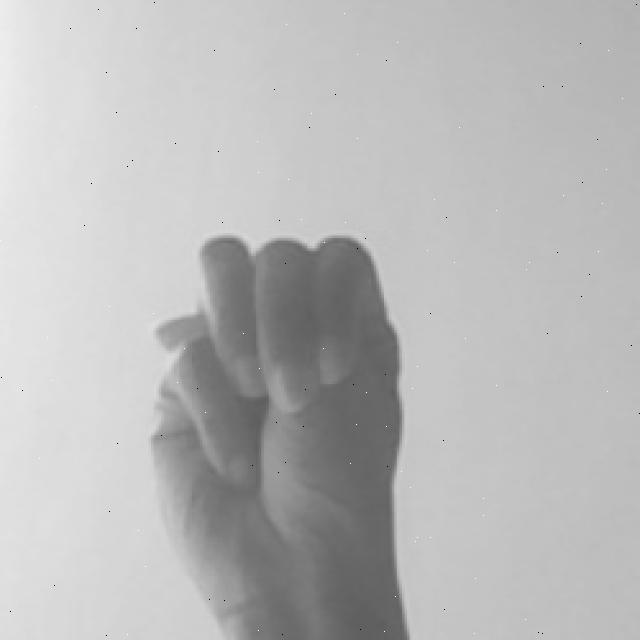M: (143, 222, 422, 640)
